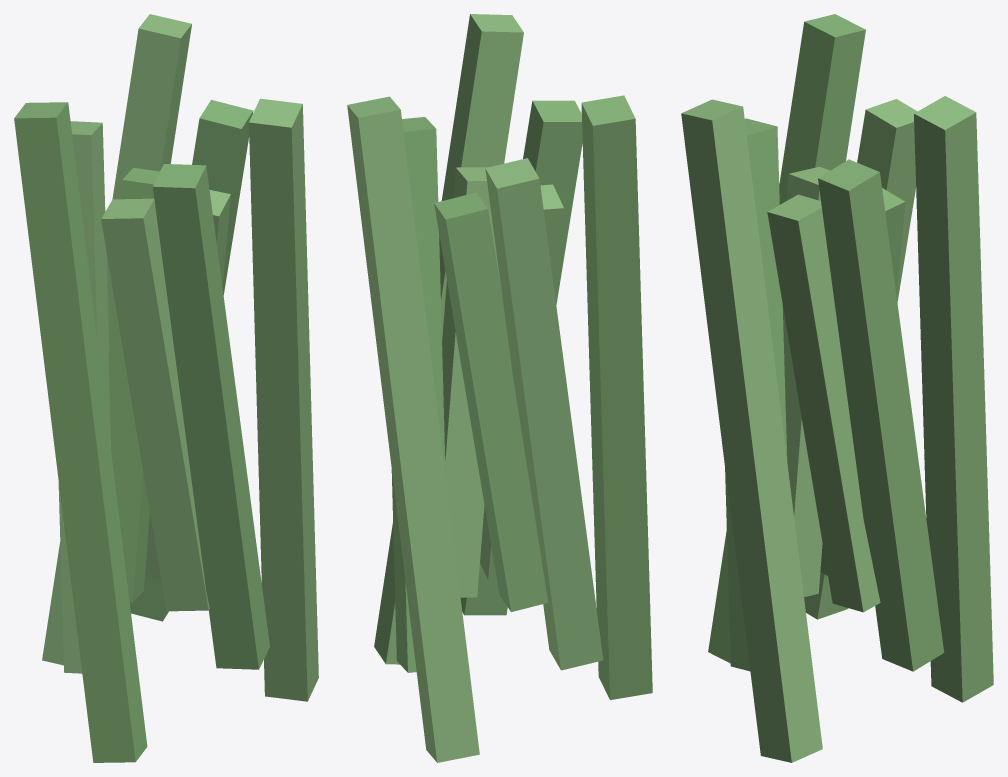
The model's file is herbe.glb.
3 views of the same model, side by side, from view 1: azimuth 30°, elevation 25°; view 2: azimuth 150°, elevation 25°; view 3: azimuth 270°, elevation 25° (orthographic).
Parts seen in each view (by area): view 1: Cylinder.005, Cylinder.008, Cylinder.007, Cylinder.006, Cylinder.002, Cylinder.003, Cylinder.004, Cylinder.001, Cylinder; view 2: Cylinder.002, Cylinder.005, Cylinder.004, Cylinder.003, Cylinder.008, Cylinder, Cylinder.001, Cylinder.007, Cylinder.006; view 3: Cylinder.008, Cylinder.002, Cylinder.001, Cylinder, Cylinder.005, Cylinder.007, Cylinder.004, Cylinder.006, Cylinder.003.
Part boxes in pixels (x1,y1,x2,y2): Cylinder.005: (14, 102, 147, 762); Cylinder.008: (249, 98, 318, 701); Cylinder.007: (152, 164, 269, 669); Cylinder.006: (101, 198, 209, 611); Cylinder.002: (42, 14, 191, 665); Cylinder.003: (108, 167, 159, 602); Cylinder.004: (58, 121, 110, 673); Cylinder.001: (129, 99, 253, 621); Cylinder: (145, 190, 230, 579); Cylinder.002: (347, 96, 479, 762); Cylinder.005: (581, 95, 652, 699); Cylinder.004: (485, 158, 603, 670); Cylinder.003: (434, 192, 548, 611); Cylinder.008: (374, 14, 523, 664); Cylinder: (442, 167, 501, 597); Cylinder.001: (391, 117, 445, 672); Cylinder.007: (460, 100, 582, 615); Cylinder.006: (480, 184, 563, 580); Cylinder.008: (681, 99, 822, 762); Cylinder.002: (914, 96, 993, 702); Cylinder.001: (818, 159, 944, 671); Cylinder: (767, 194, 880, 612); Cylinder.005: (708, 14, 865, 663); Cylinder.007: (725, 118, 787, 671); Cylinder.004: (804, 99, 917, 619); Cylinder.006: (782, 166, 829, 596); Cylinder.003: (820, 188, 905, 575).
Bounding box in the file's own units: 0.209 × 0.441 × 0.2003.
